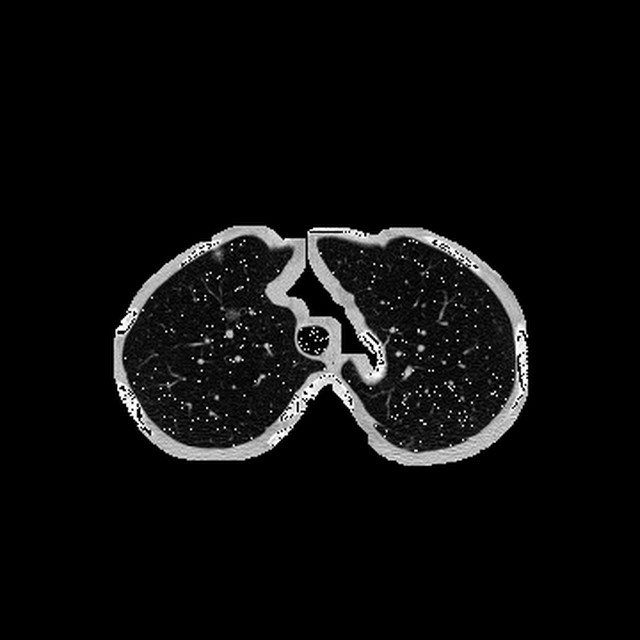PN: (210, 247, 224, 261)
